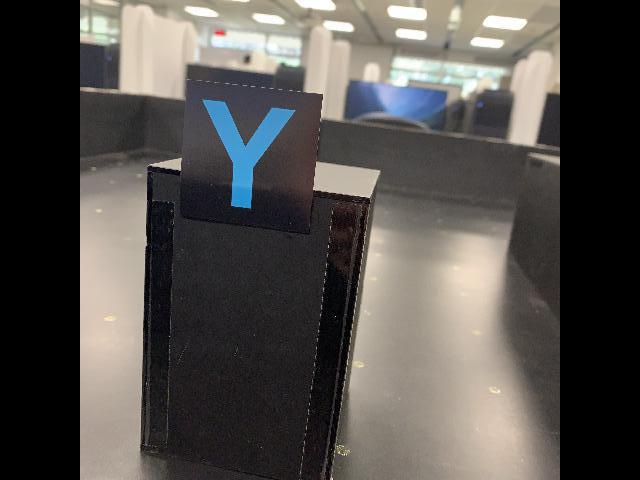y: (179, 76, 325, 237)
